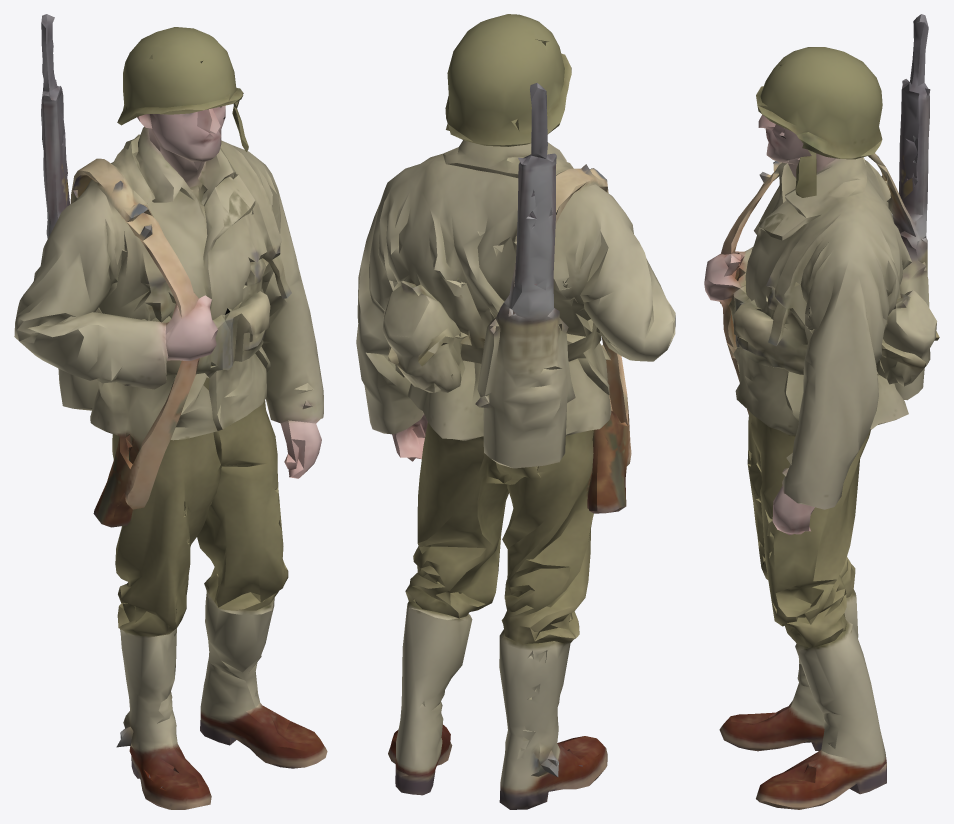
The model's file is usa_pawn.glb.
3 views of the same model, side by side, from view 1: azimuth 30°, elevation 25°; view 2: azimuth 150°, elevation 25°; view 3: azimuth 270°, elevation 25° (orthographic). The views are drawn at different scales.
Visible parts, largest first — view 1: infantry-impression-1_15k; view 2: infantry-impression-1_15k; view 3: infantry-impression-1_15k.
Part boxes in pixels (bbox=[...]): infantry-impression-1_15k: bbox=[14, 14, 327, 809]; infantry-impression-1_15k: bbox=[356, 14, 675, 809]; infantry-impression-1_15k: bbox=[704, 14, 939, 809].
Bounding box in the file's own units: 0.4201 × 1 × 0.3034.
1 material, 1 textured.
